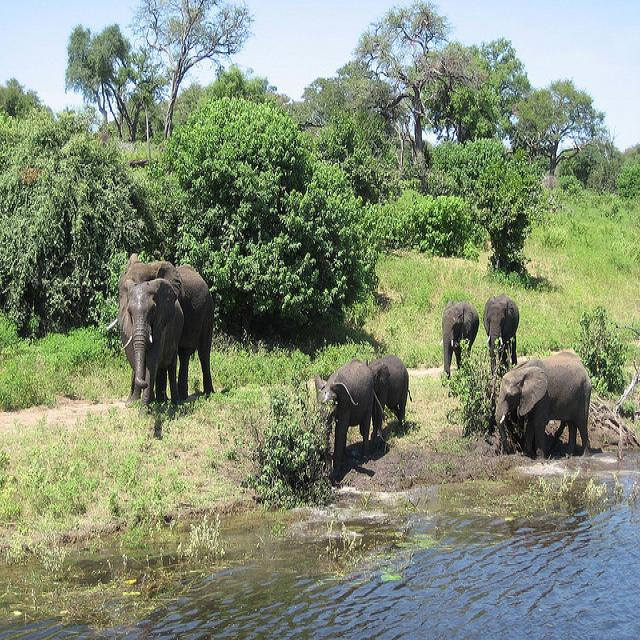Elephant: (106, 252, 214, 407), (494, 348, 592, 459), (313, 357, 384, 479), (368, 354, 412, 429), (441, 298, 479, 378), (482, 293, 519, 375)
